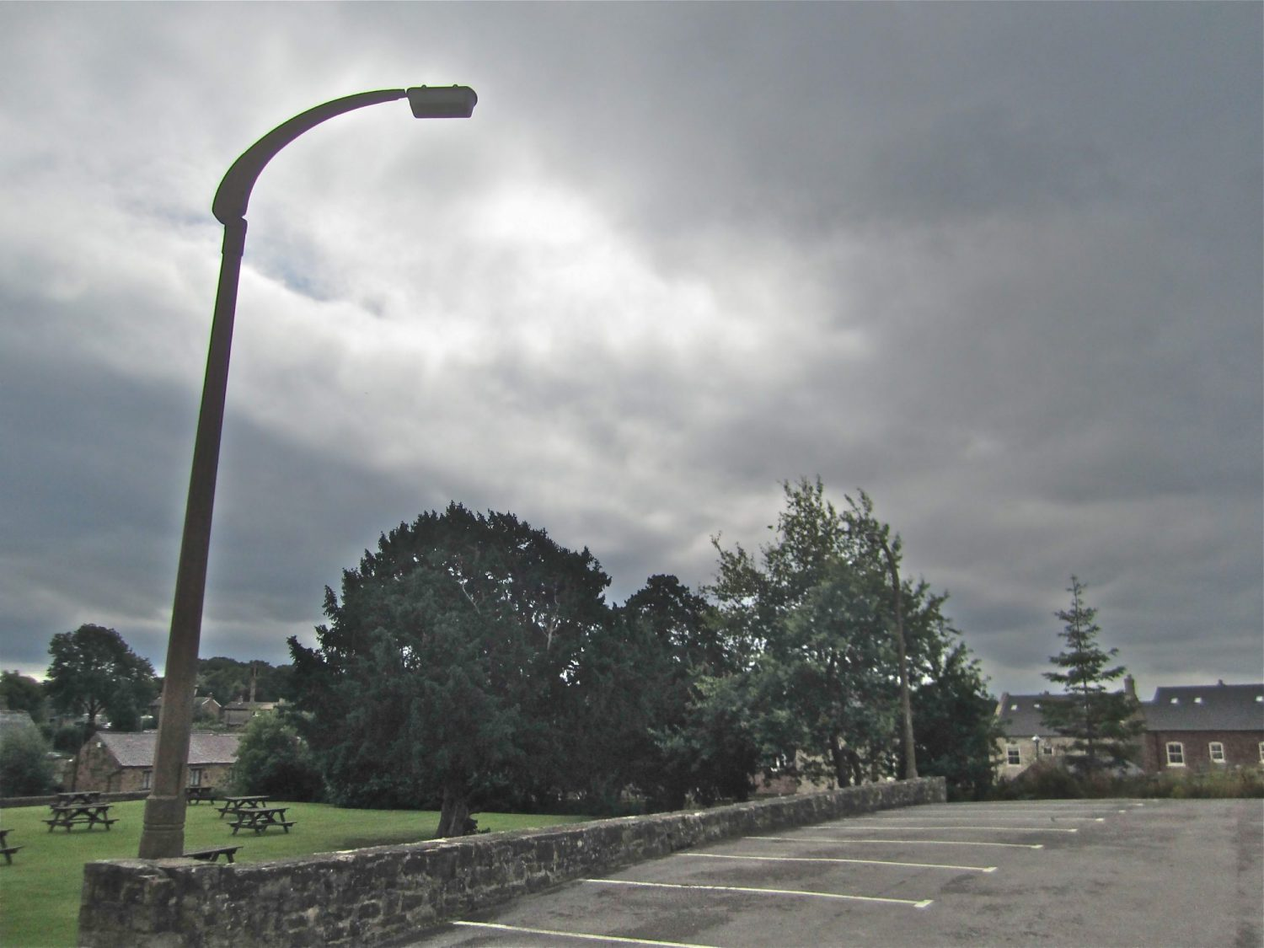light_pole: (130, 160, 254, 892)
